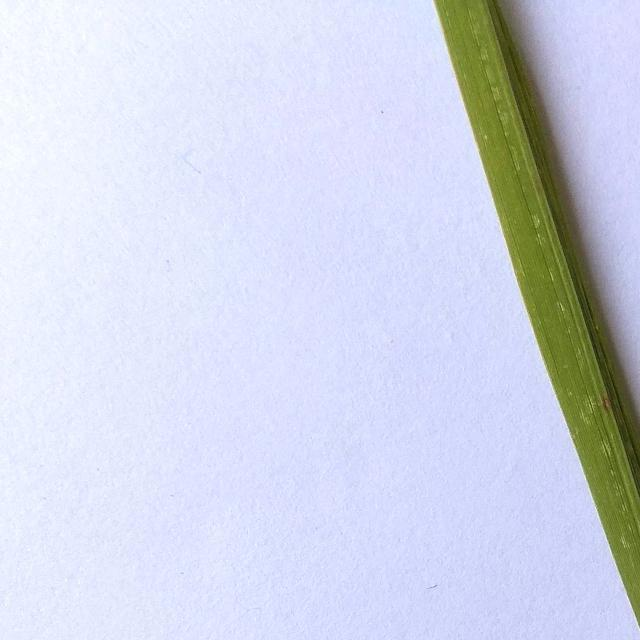Blast: (602, 390, 616, 416)
